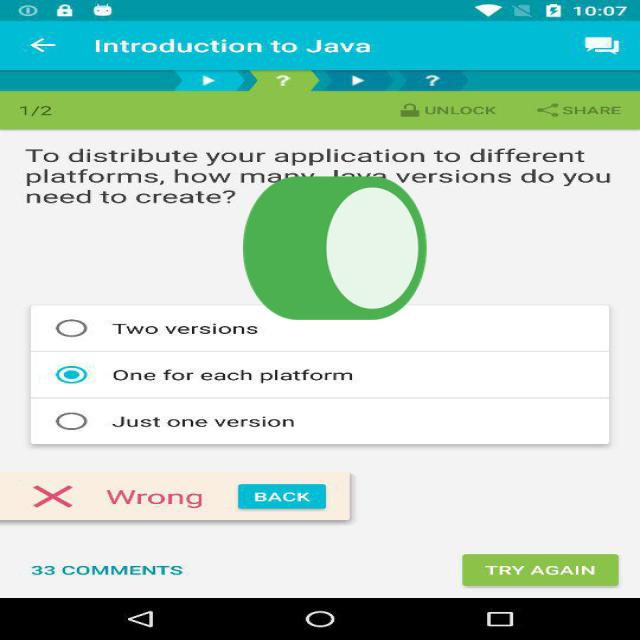social proof: (235, 121, 435, 386)
